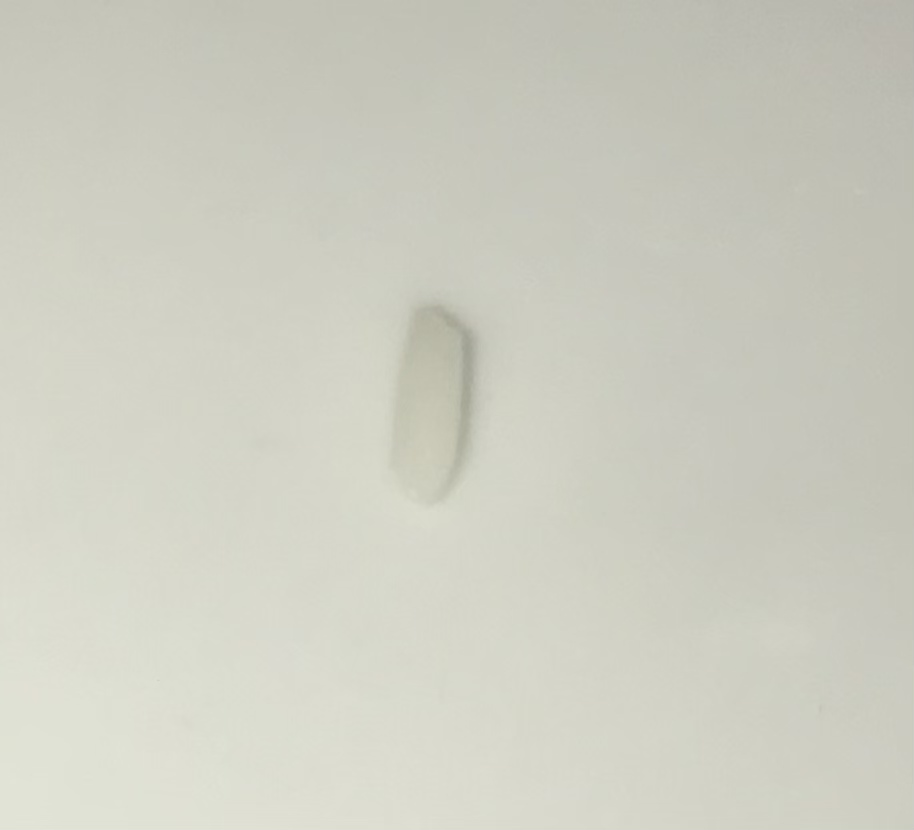Gao Thom Go Cong: (377, 295, 487, 512)
